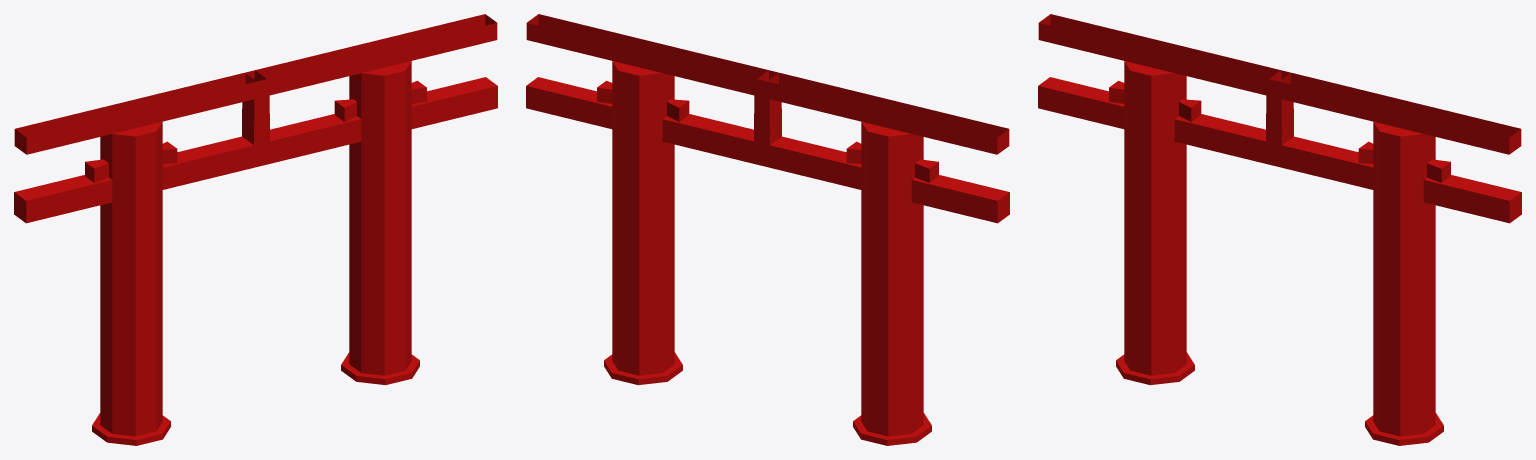
Rendered from island_red_gates.obj.
3 renders of one model, left to right at view 1: azimuth 30°, elevation 25°; view 2: azimuth 150°, elevation 25°; view 3: azimuth 330°, elevation 25°, orthographic.
Visible parts, largest first — view 1: red_gates island_obj polySurface17, polySurface16 red_gates island_obj; view 2: red_gates island_obj polySurface17, polySurface16 red_gates island_obj; view 3: polySurface16 red_gates island_obj, red_gates island_obj polySurface17.
Part boxes in pixels (x1,y1,x2,y2): red_gates island_obj polySurface17: [14, 70, 266, 445]; polySurface16 red_gates island_obj: [245, 14, 497, 385]; red_gates island_obj polySurface17: [757, 70, 1009, 445]; polySurface16 red_gates island_obj: [526, 14, 778, 385]; polySurface16 red_gates island_obj: [1269, 70, 1521, 445]; red_gates island_obj polySurface17: [1038, 14, 1290, 385].
Size of the model in its own units: 1.69 by 1.11 by 0.2286.
